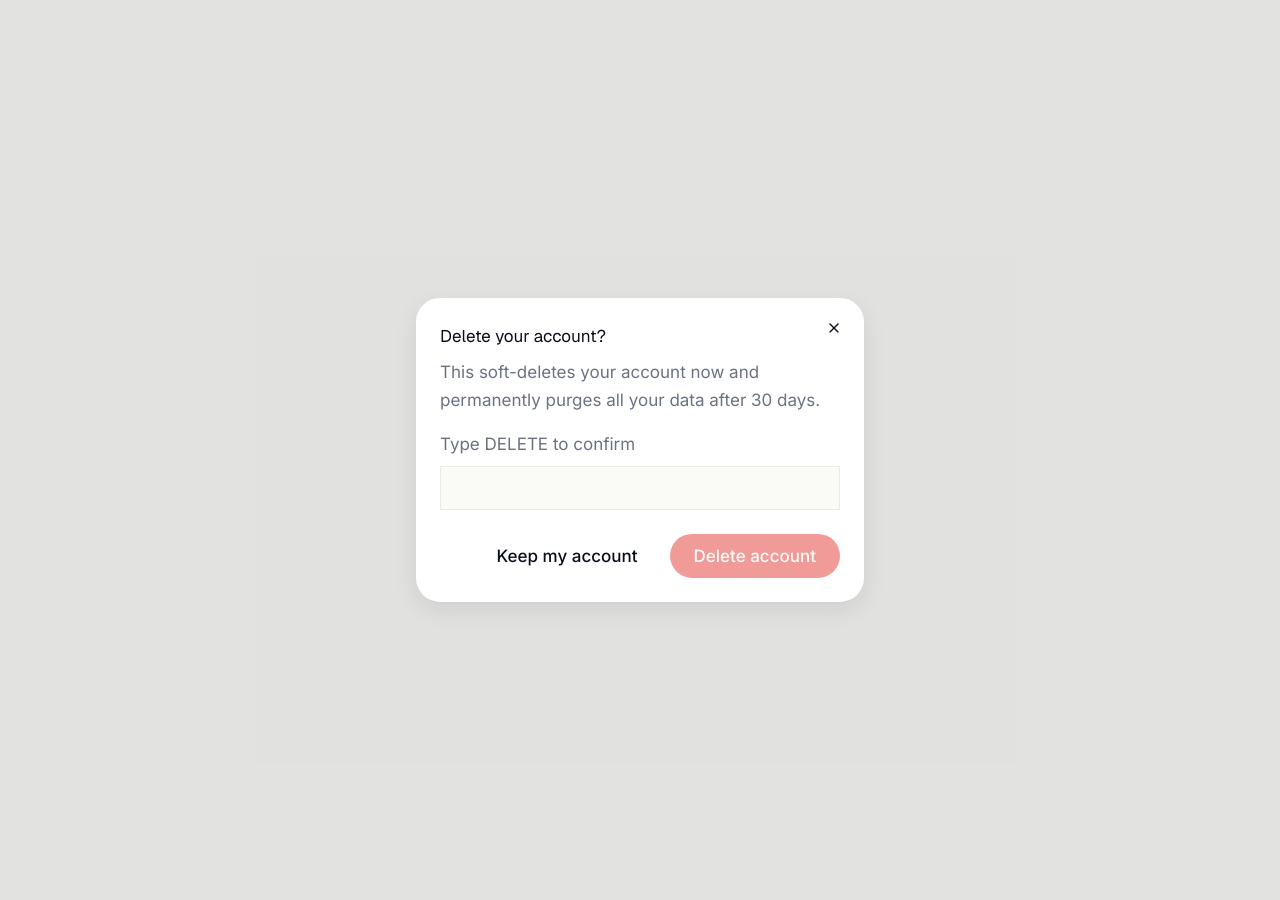
Test case: DestructiveConfirmDialog › keeps the confirm button disabled until the typed confirmation matches; dismiss is "Keep my account"
Expected: the button "Delete account" is disabled, [670,534,840,578]
Expected: the button "Keep my account" is shown, [473,534,662,578]
Type "DELE" into the field labelled "Type DELETE to confirm" at (640,488), box [440,466,840,510]
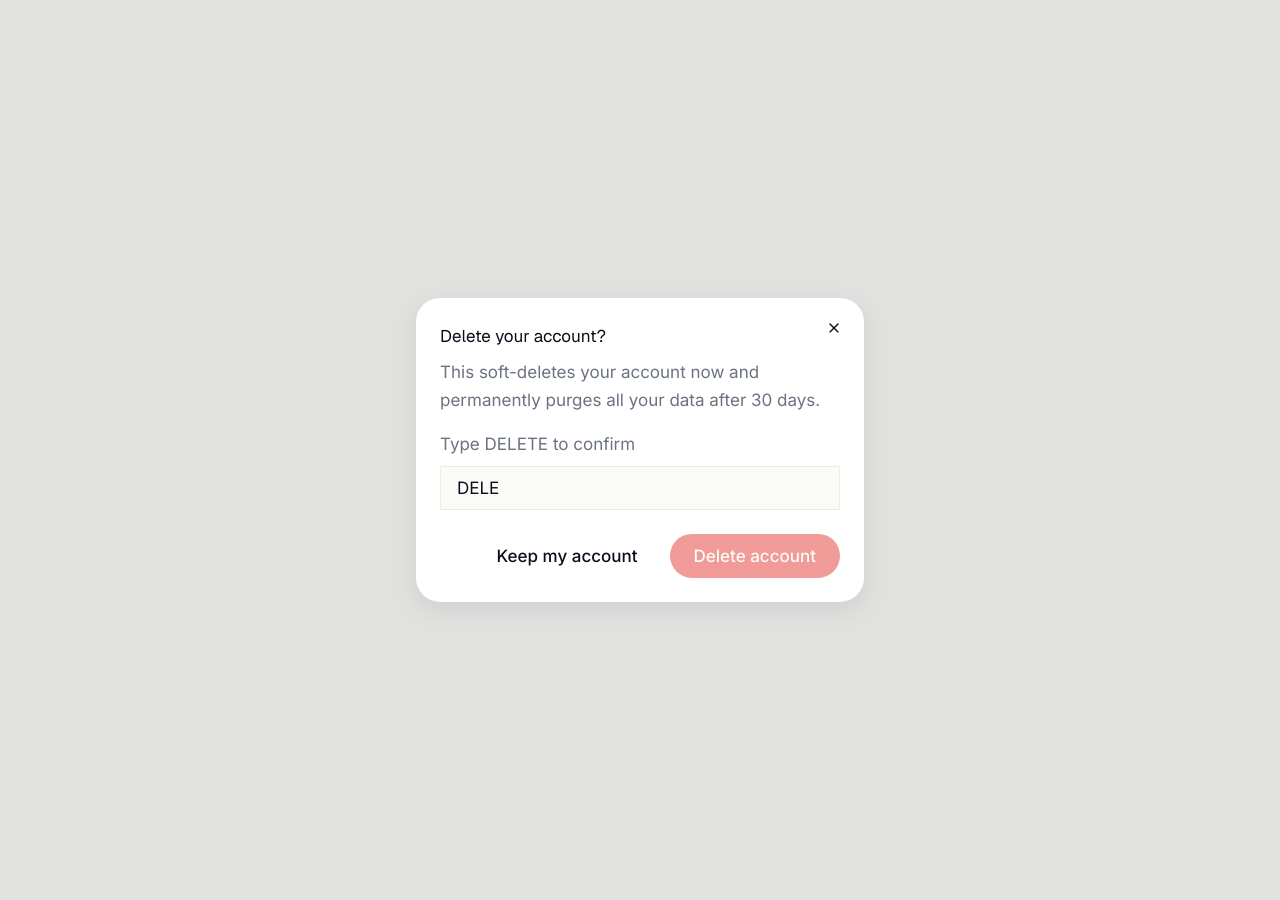
Expected: the button "Delete account" is disabled, [670,534,840,578]
Replace the text in the field labelled "Type DELETE to confirm" with "DELETE" at (640,488), box [440,466,840,510]
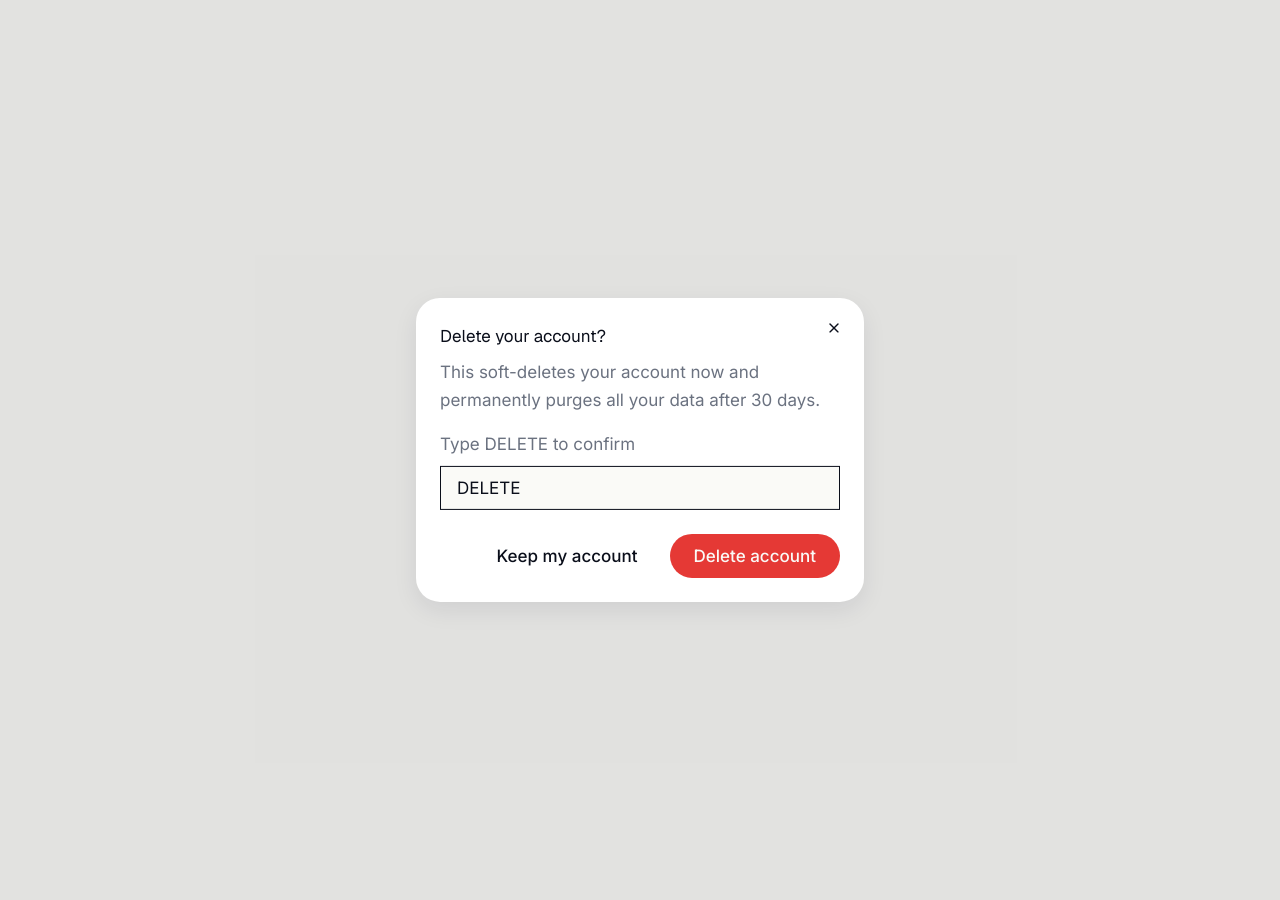
Expected: the button "Delete account" is enabled, [670,534,840,578]
